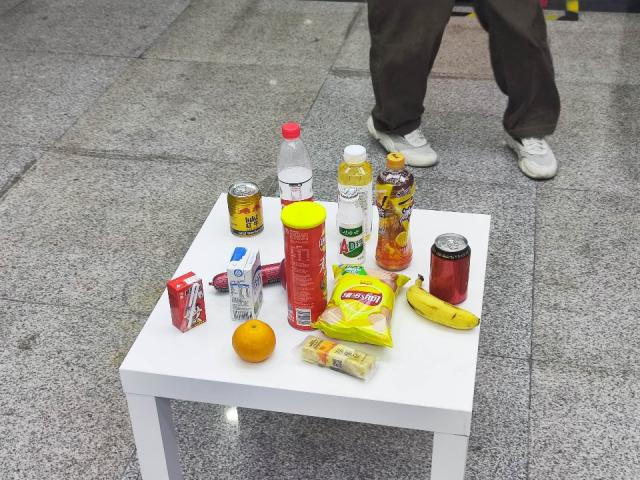Canned_drinks: (429, 233, 472, 305), (227, 176, 267, 240)
bottle: (376, 152, 414, 272), (336, 144, 374, 264), (279, 119, 313, 201)
cylinder: (281, 205, 328, 335)
drink_box: (162, 268, 219, 344), (223, 247, 263, 320)
